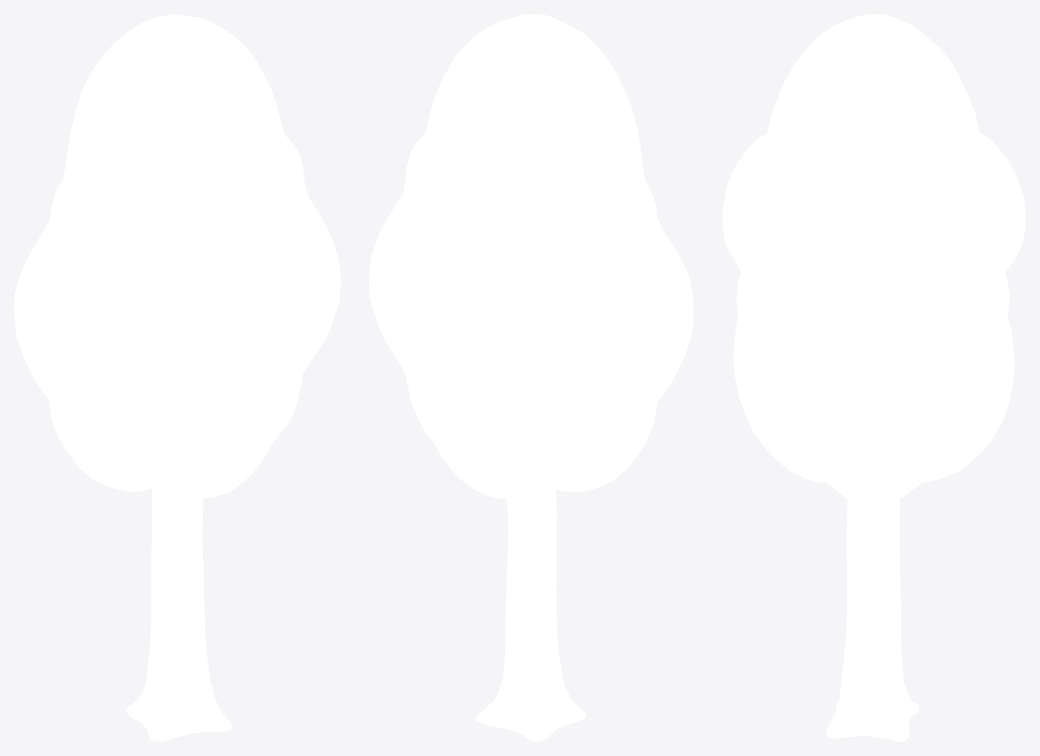
The model's file is arvore-bolha.glb.
3 views of the same model, side by side, from view 1: azimuth 30°, elevation 25°; view 2: azimuth 150°, elevation 25°; view 3: azimuth 270°, elevation 25° (orthographic).
Parts seen in each view (by area): view 1: mesh_node; view 2: mesh_node; view 3: mesh_node.
Part boxes in pixels (<box>): mesh_node: <box>14,14,340,741</box>; mesh_node: <box>369,14,693,741</box>; mesh_node: <box>722,14,1025,741</box>.
Bounding box in the file's own units: 0.4502 × 1 × 0.3936.
1 material, 1 textured.
